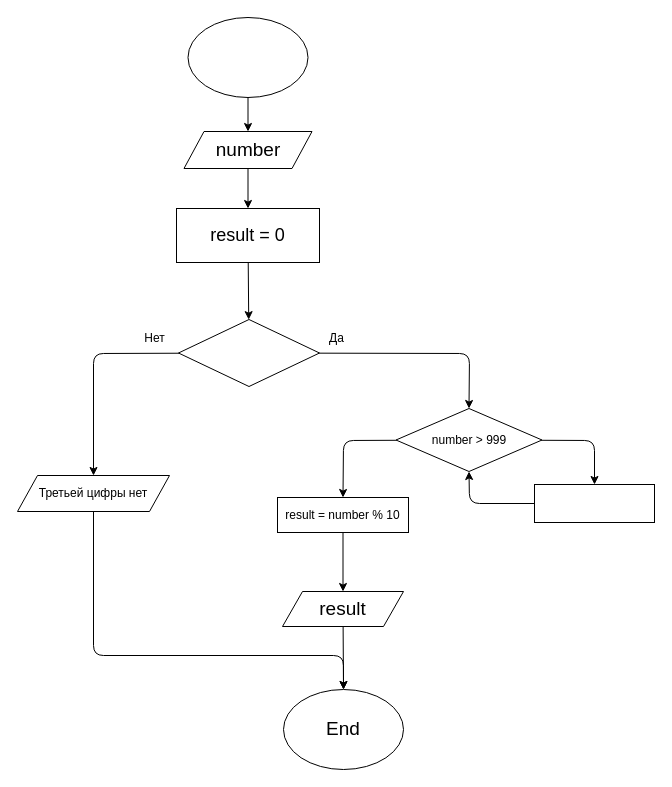
Image size: 672x787. Some labels were removed from this diagram. The centre of each missing label's shape, as x and y in pixels:
number /= 10: pixel 594 503
number >= 100: pixel 249 352
Start: pixel 247 57
